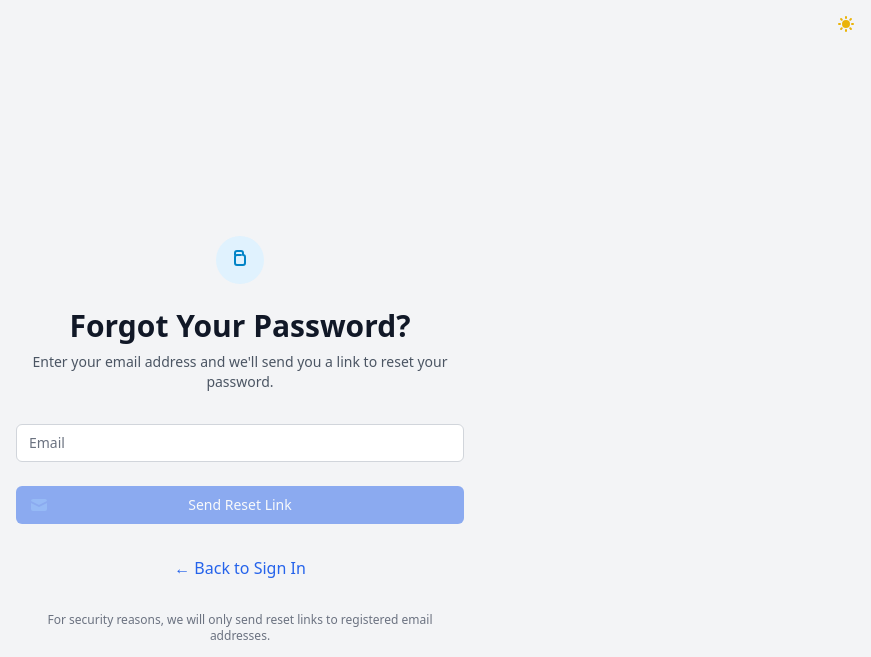
Test: ForgotPassword Component › Form Input Handling › should enable submit button when email is provided
Type "test@example.com" into the field with id "email-address" at (240, 443), box [16,424,464,462]
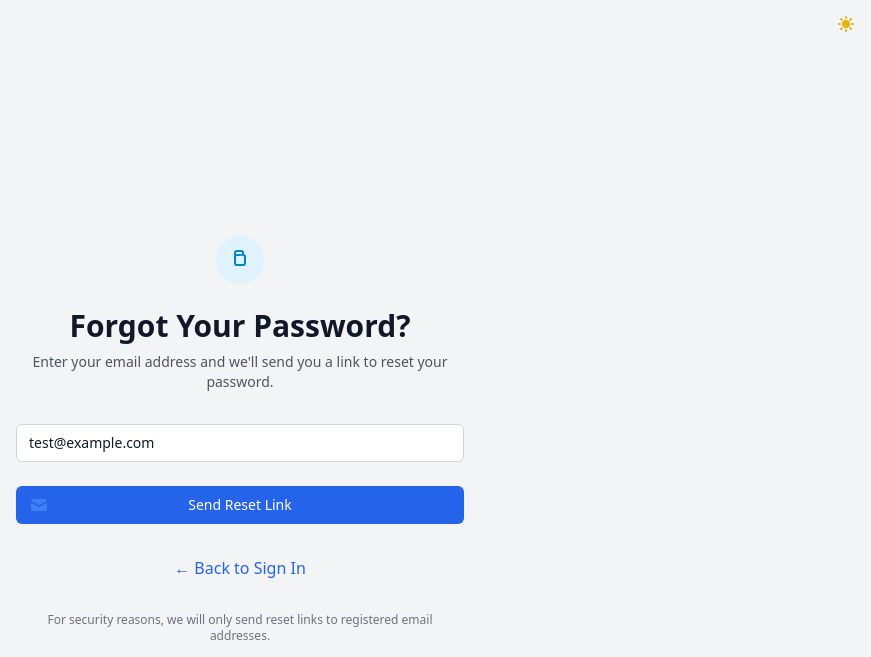
Expected: the submit button is enabled, [16,486,464,524]
